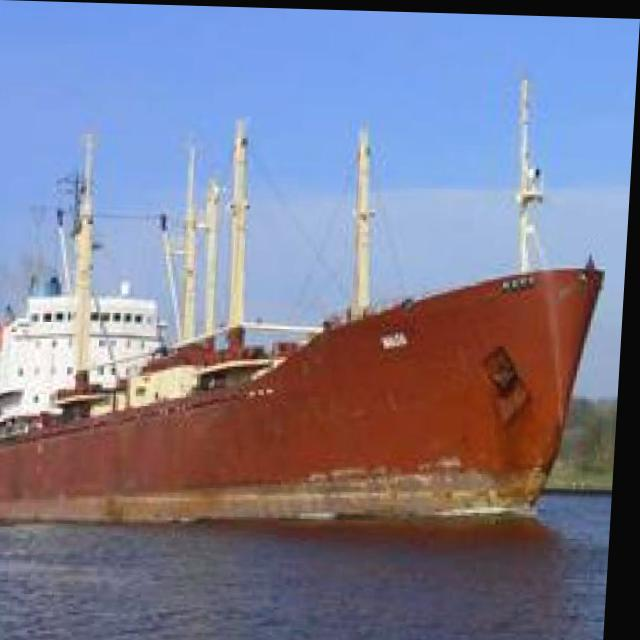ship2: (0, 73, 609, 527)
